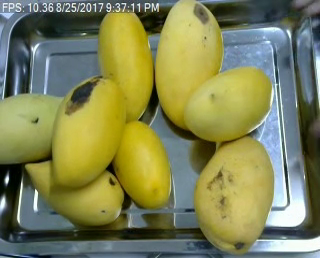Mango: (190, 139, 274, 257), (153, 1, 226, 132), (47, 75, 128, 184), (91, 2, 159, 127), (20, 156, 129, 228), (181, 65, 273, 141), (109, 116, 177, 212), (0, 87, 72, 166)
